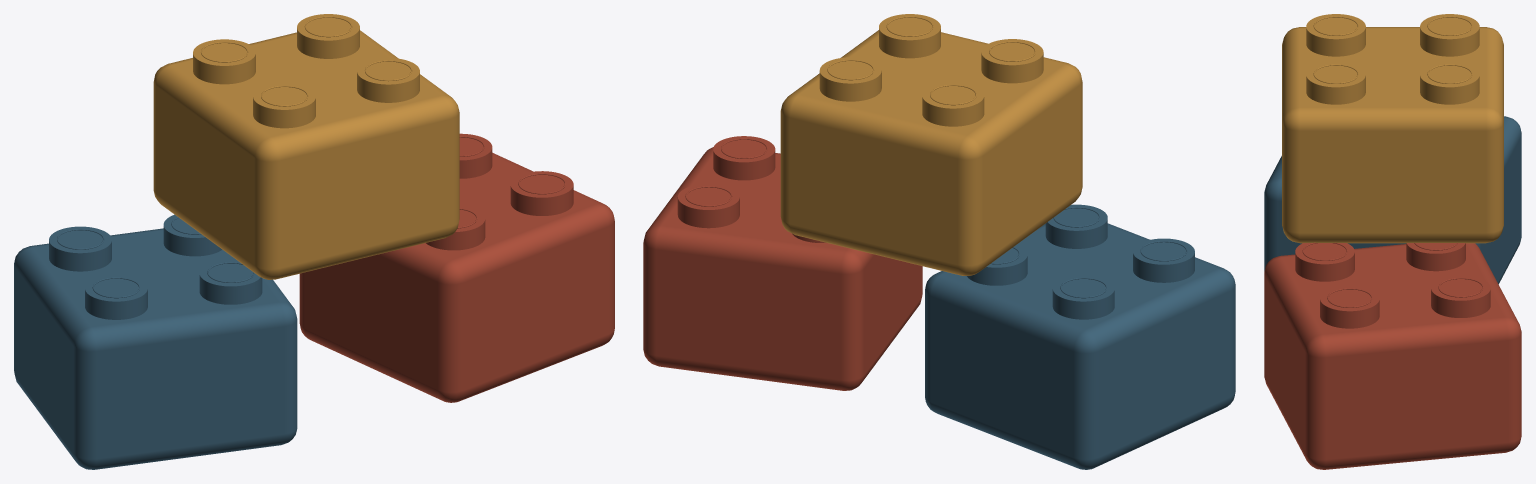
File: retail.glb
3 renders of one model, left to right at view 1: azimuth 30°, elevation 25°; view 2: azimuth 150°, elevation 25°; view 3: azimuth 270°, elevation 25°, orthographic. The views are drawn at different scales.
Parts seen in each view (by area): view 1: Main assembly; view 2: Main assembly; view 3: Main assembly.
Boxes of the visible parts, left/top/right/bottom form: Main assembly: left=14, top=14, right=614, bottom=469; Main assembly: left=643, top=14, right=1235, bottom=469; Main assembly: left=1264, top=14, right=1521, bottom=469.
Bounding box in the file's own units: 2.06 × 1.17 × 0.9042.
